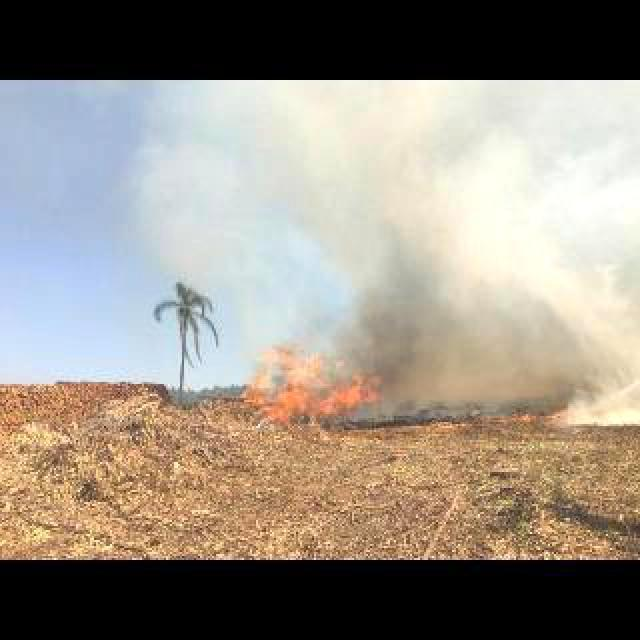Fire: (249, 348, 371, 420)
Smoke: (176, 82, 640, 430)
